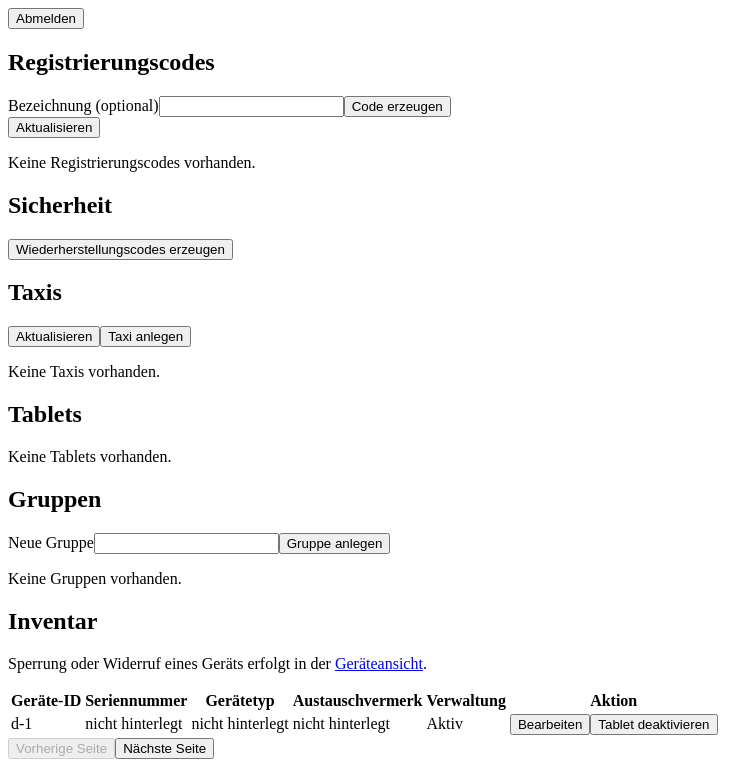
Test case: CX-142 Inventarliste › verwirft die verspätete Antwort einer zuvor angefragten Seite
The image size is (735, 767).
(page scrolled)
expect the text "d-1" is shown: met, box [10,713,82,736]
Click the button "Nächste Seite": (165, 748) [115,738,214,759]
(page scrolled)
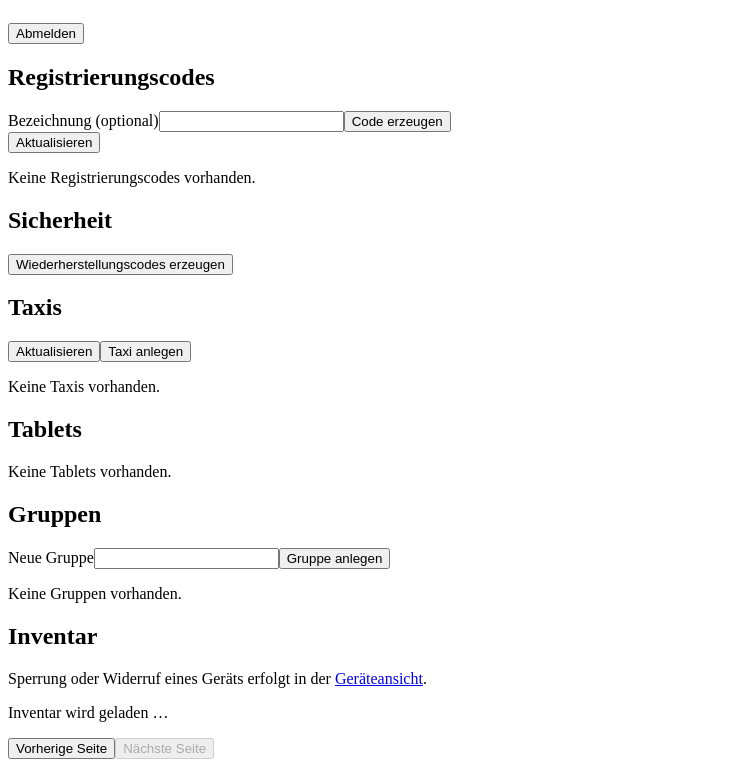
expect the text "Inventar wird geladen …" is shown: met, box [8,704,168,721]
Note: Die erste Seite wird erneut angefragt und ist schneller als Seite zwei.
Click the button "Vorherige Seite": (62, 748) [8,738,115,759]
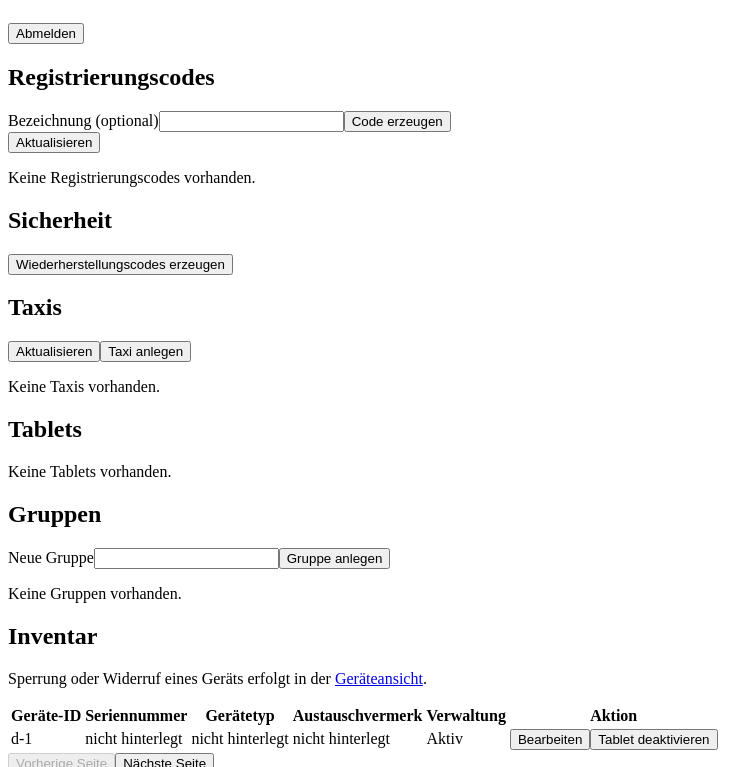
expect the text "d-1" is shown: met, box [10,728,82,751]
expect the text "Inventar wird geladen …" is gone: met
